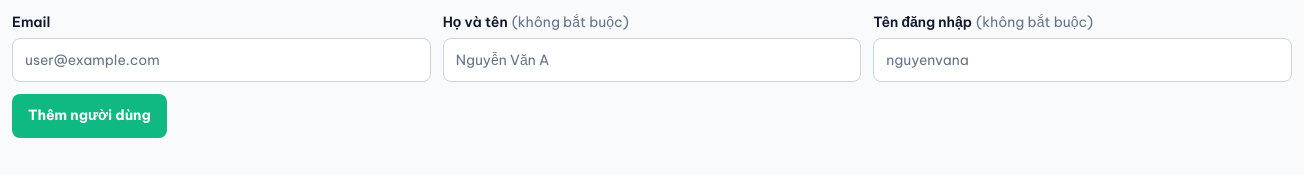
Test case: UserForm — giữ chữ vừa gõ sau khi báo lỗi › lỗi ở một ô: cả ba ô còn nguyên chữ vừa gõ, câu lỗi nằm dưới đúng ô
Type "an@example.com" into the field labelled "Email". click: (221, 60)
box: [12,38,431,82]
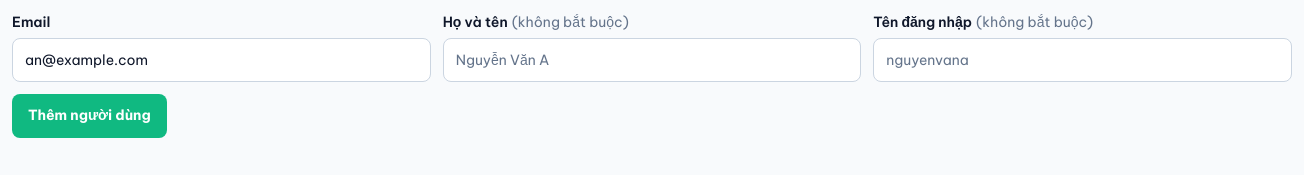
Type "Nguyễn Văn An" into the field labelled "Họ và tên(không bắt buộc)". click: (652, 60)
box: [443,38,861,82]
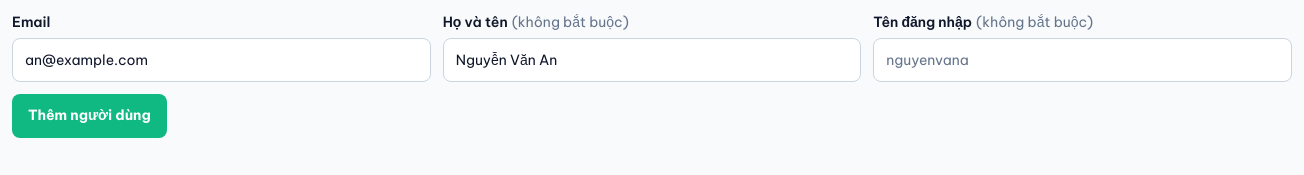
Type "an" into the field labelled "Tên đăng nhập(không bắt buộc)". click: (1083, 60)
box: [873,38,1292,82]
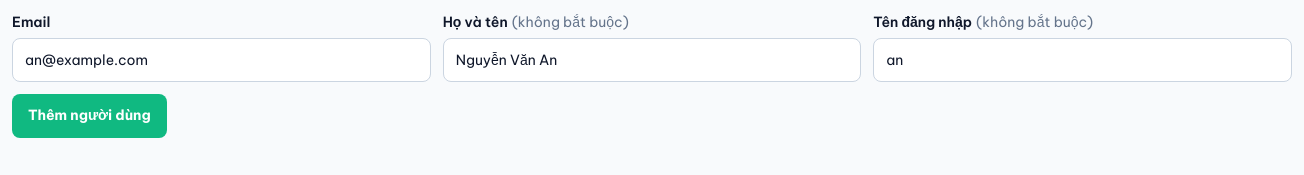
Submit the form
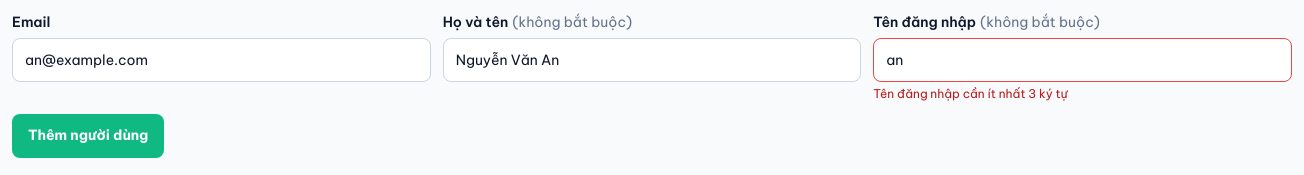
Expected: the text "Tên đăng nhập cần ít nhất 3 ký tự" is shown, [873,86,1068,101]
